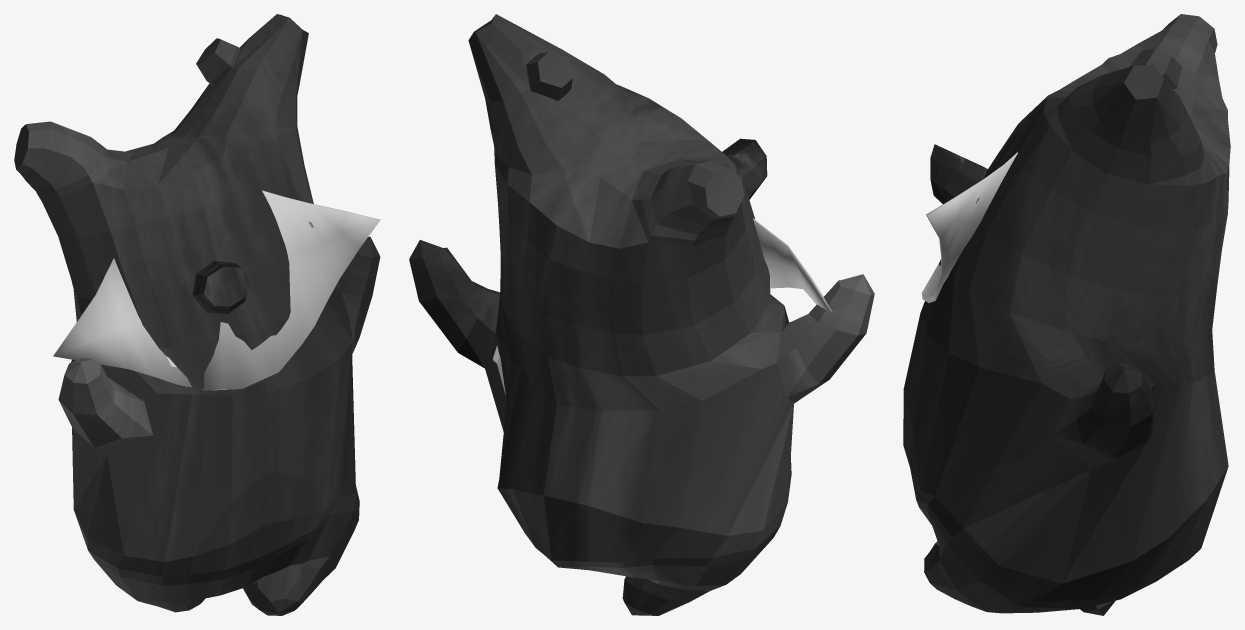
The model's file is frame_0030.obj.
3 views of the same model, side by side, from view 1: azimuth 30°, elevation 25°; view 2: azimuth 150°, elevation 25°; view 3: azimuth 270°, elevation 25° (orthographic). The views are drawn at different scales.
Visible parts, largest first — view 1: korok, leaf, nose; view 2: korok, leaf, nose; view 3: korok, leaf, nose.
Boxes of the visible parts, x1=… form: korok: x1=14, y1=14, x2=380, y2=615; leaf: x1=53, y1=190, x2=380, y2=390; nose: x1=192, y1=261, x2=250, y2=313; korok: x1=409, y1=14, x2=874, y2=615; leaf: x1=753, y1=218, x2=832, y2=313; nose: x1=722, y1=138, x2=767, y2=199; korok: x1=903, y1=14, x2=1230, y2=615; leaf: x1=921, y1=152, x2=1017, y2=302; nose: x1=930, y1=144, x2=987, y2=203.
Size of the model in its own units: 1.64 by 2.3 by 1.11.
